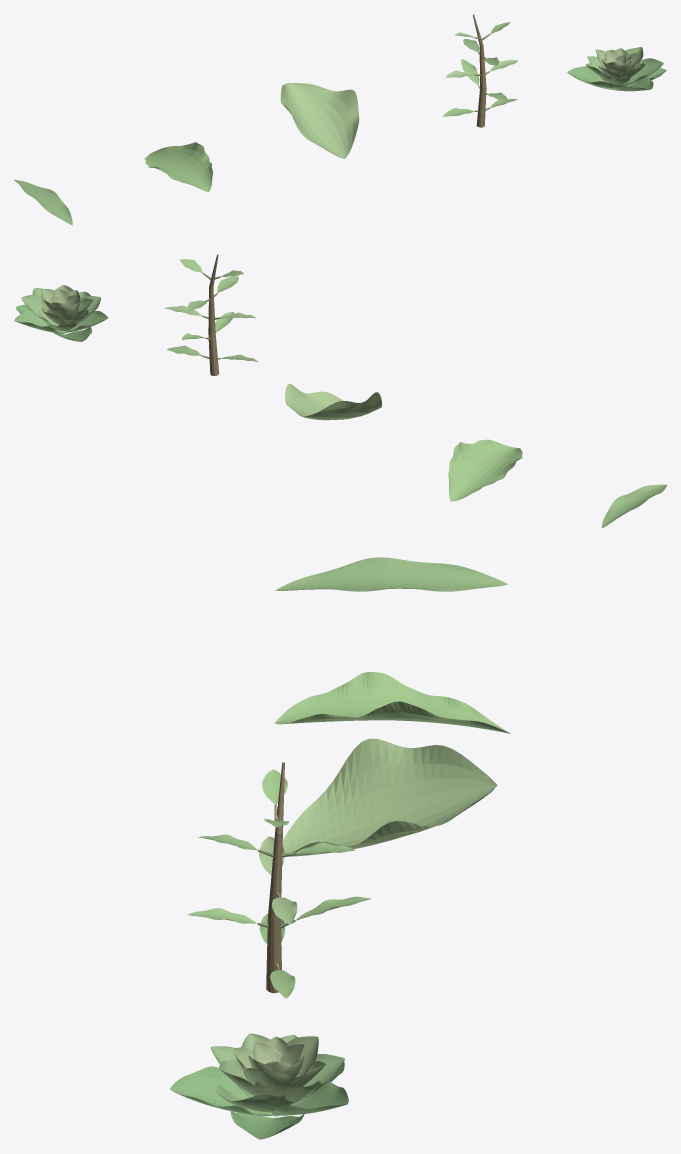
File: geometry_samples.glb
3 views of the same model, one above another, from view 1: azimuth 30°, elevation 25°; view 2: azimuth 150°, elevation 25°; view 3: azimuth 270°, elevation 25° (orthographic). The views are drawn at different scales.
Visible parts, largest first — view 1: sample_2_0, sample_1_0, sample_0_0, sample_3_0, sample_4_5, sample_4_2, sample_4_1; view 2: sample_1_0, sample_2_0, sample_0_0, sample_3_0, sample_4_3, sample_4_8; view 3: sample_2_0, sample_1_0, sample_0_0, sample_3_0, sample_4_2, sample_4_3, sample_4_0, sample_4_5.
Part boxes in pixels (x1=…): sample_2_0: x1=280, y1=82, x2=359, y2=158; sample_1_0: x1=144, y1=142, x2=213, y2=192; sample_0_0: x1=14, y1=179, x2=72, y2=225; sample_3_0: x1=473, y1=14, x2=486, y2=127; sample_4_5: x1=623, y1=58, x2=663, y2=85; sample_4_2: x1=614, y1=77, x2=653, y2=91; sample_4_1: x1=567, y1=65, x2=616, y2=90; sample_1_0: x1=448, y1=439, x2=522, y2=501; sample_2_0: x1=285, y1=383, x2=381, y2=420; sample_0_0: x1=601, y1=484, x2=666, y2=528; sample_3_0: x1=208, y1=254, x2=219, y2=375; sample_4_3: x1=14, y1=310, x2=63, y2=333; sample_4_8: x1=21, y1=295, x2=58, y2=325; sample_2_0: x1=282, y1=738, x2=497, y2=856; sample_1_0: x1=274, y1=672, x2=510, y2=733; sample_0_0: x1=275, y1=557, x2=508, y2=591; sample_3_0: x1=266, y1=762, x2=284, y2=993; sample_4_2: x1=170, y1=1066, x2=273, y2=1115; sample_4_3: x1=272, y1=1081, x2=348, y2=1115; sample_4_0: x1=230, y1=1110, x2=304, y2=1139; sample_4_5: x1=215, y1=1085, x2=291, y2=1112.
Bounding box in the file's own units: 5.98 × 1.1 × 1.47.
